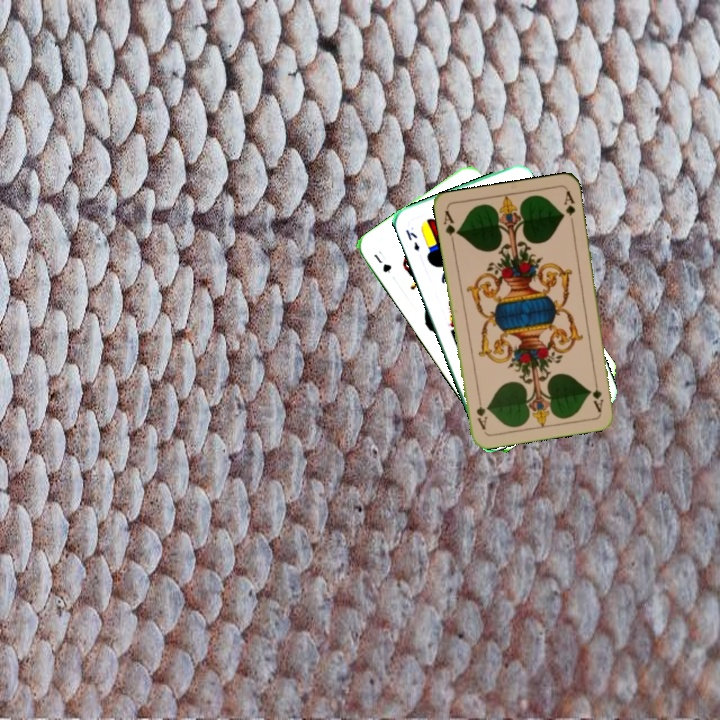EK: (402, 226, 422, 253)
GA: (439, 207, 461, 247), (589, 374, 606, 415)
GU: (369, 250, 394, 275)
